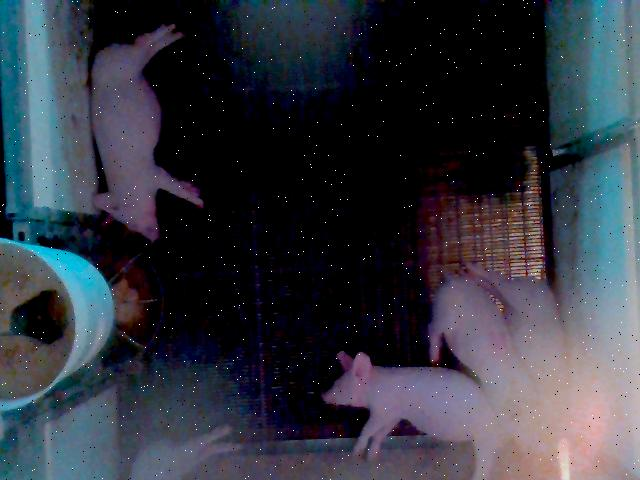pig-4: (429, 275, 534, 432)
